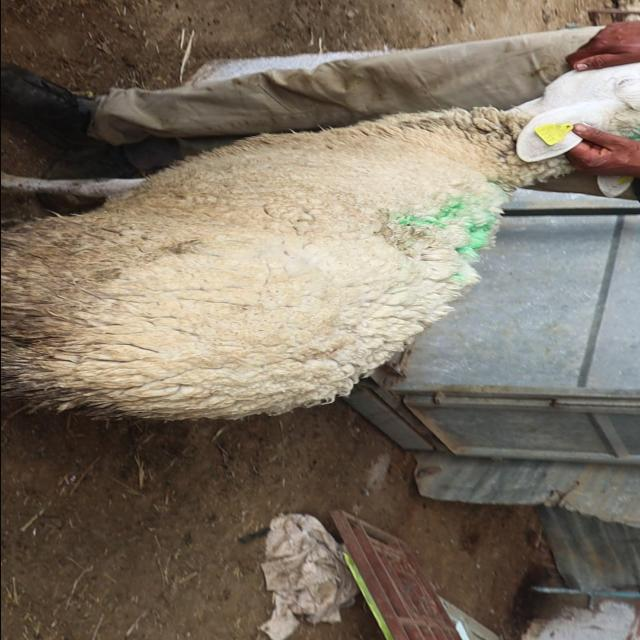Score_3: (1, 63, 640, 420)
